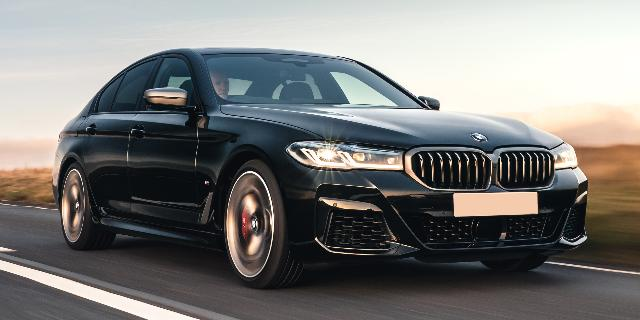bmw: (51, 47, 588, 289)
